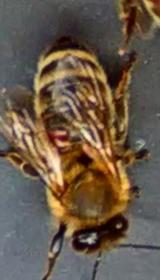varroa_mite: (40, 117, 80, 151)
